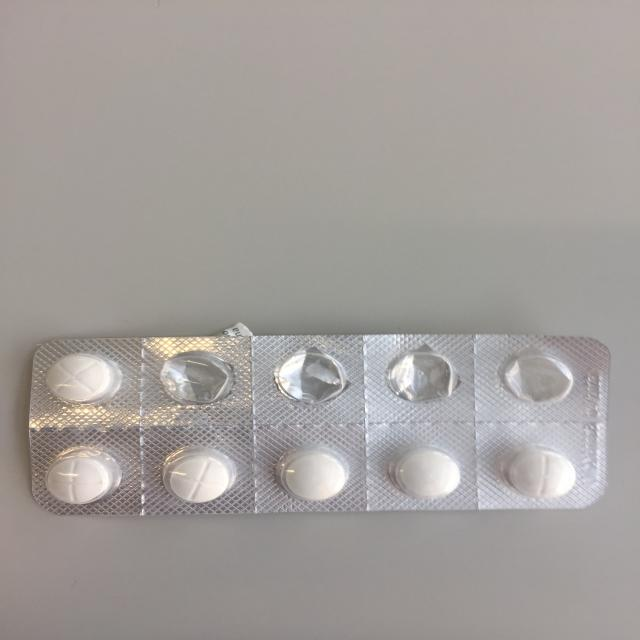Empty: (263, 343, 357, 408), (150, 346, 242, 412), (376, 345, 463, 409), (496, 350, 576, 411)
Pill: (34, 445, 127, 510), (153, 442, 240, 509), (273, 442, 357, 509), (36, 350, 126, 409), (499, 442, 582, 504), (386, 445, 468, 503)
